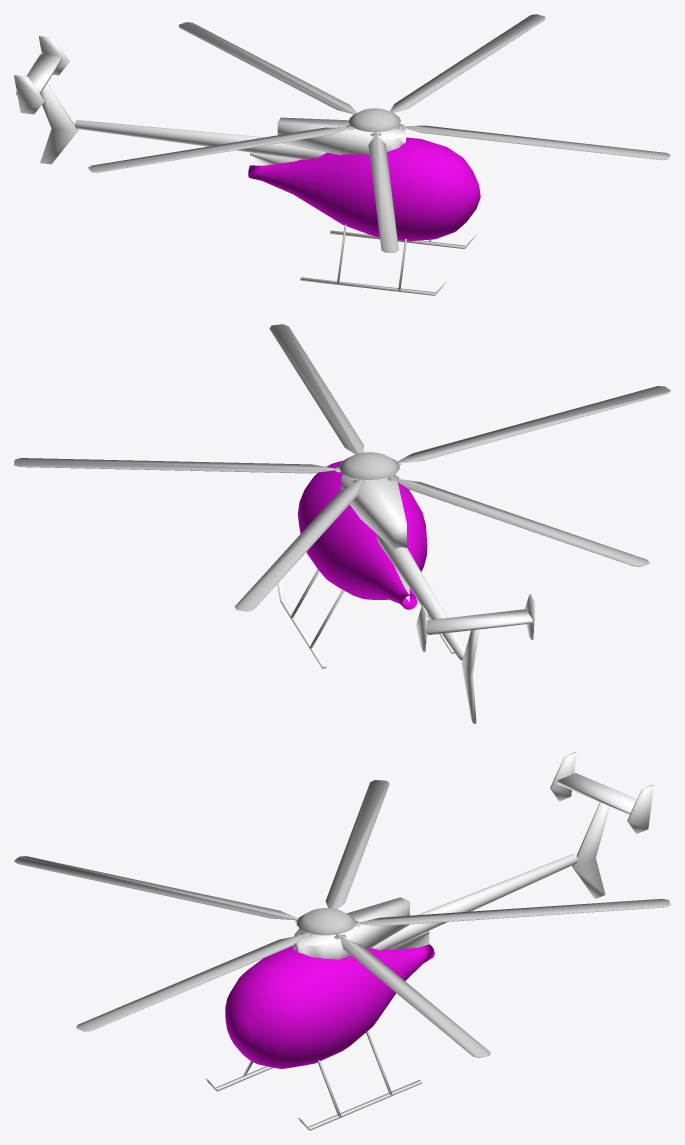
The model's file is heli.obj.
3 views of the same model, one above another, from view 1: azimuth 30°, elevation 25°; view 2: azimuth 150°, elevation 25°; view 3: azimuth 270°, elevation 25° (orthographic). The views are drawn at different scales.
Parts seen in each view (by area): view 1: BODY, ROTOR, TAIL, TURBINE, TUBE, FEET; view 2: ROTOR, BODY, TAIL, TURBINE, TUBE, FEET; view 3: BODY, ROTOR, TAIL, TURBINE, TUBE, FEET.
Part boxes in pixels (x1=…): BODY: x1=248, y1=137, x2=480, y2=241; ROTOR: x1=88, y1=14, x2=670, y2=252; TAIL: x1=14, y1=36, x2=78, y2=164; TURBINE: x1=250, y1=117, x2=405, y2=165; TUBE: x1=74, y1=120, x2=326, y2=159; FEET: x1=300, y1=230, x2=476, y2=295; ROTOR: x1=14, y1=324, x2=670, y2=611; BODY: x1=297, y1=460, x2=427, y2=609; TAIL: x1=416, y1=594, x2=535, y2=723; TURBINE: x1=341, y1=473, x2=409, y2=601; TUBE: x1=376, y1=534, x2=465, y2=660; FEET: x1=277, y1=580, x2=454, y2=668; BODY: x1=225, y1=944, x2=434, y2=1068; ROTOR: x1=14, y1=780, x2=670, y2=1057; TAIL: x1=550, y1=752, x2=653, y2=898; TURBINE: x1=293, y1=897, x2=429, y2=959; TUBE: x1=371, y1=854, x2=577, y2=950; FEET: x1=205, y1=1066, x2=422, y2=1130.
Bounding box in the file's own units: 1.47 × 0.4732 × 1.47.
